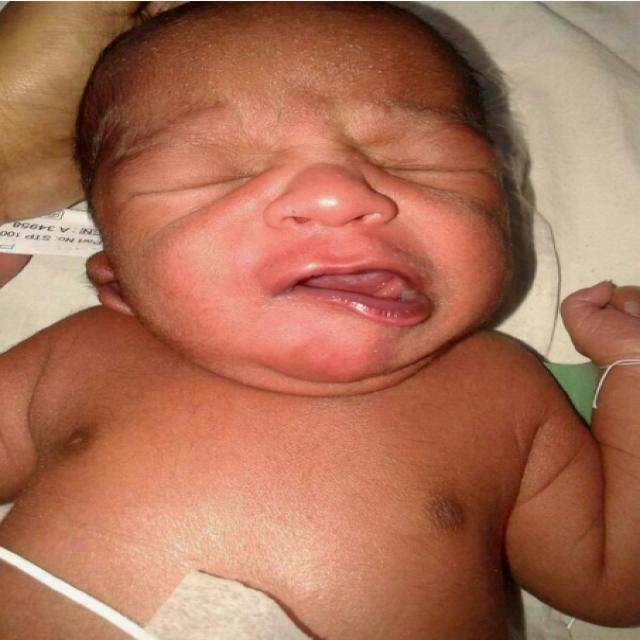stroke_face: (112, 38, 529, 390)
